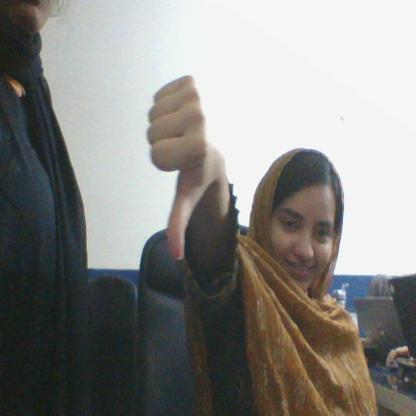thumbs-down: (140, 74, 224, 256)
